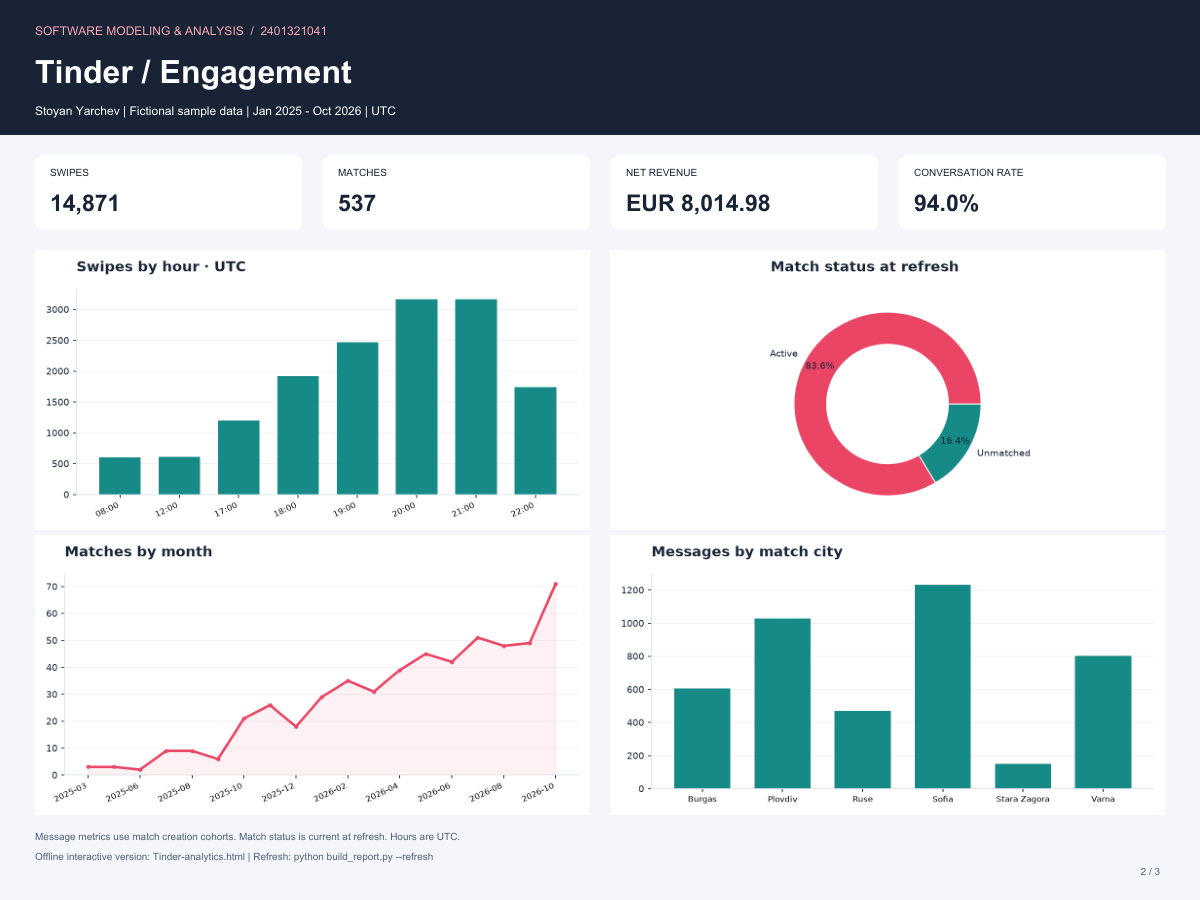

The page's visual inventory and layout, read from the dashboard file:
{"tool":"powerbi","page":{"name":"02 | Engagement","canvas":[1280,800],"ordinal":1},"visuals":[{"type":"slicer","title":"Year","fields":{"Values":["DimDate.Year"]},"box":[20,15,300,100],"z":0},{"type":"slicer","title":"City","fields":{"Values":["DimCity.CityName"]},"box":[340,15,300,100],"z":1},{"type":"clusteredColumnChart","title":"Swipes by hour (UTC)","fields":{"Category":["DimTime.HourLabel"],"Y":["FactSwipes.Total Swipes"]},"box":[20,140,610,290],"z":2},{"type":"clusteredBarChart","title":"Match status at refresh","fields":{"Category":["DimMatchStatus.StatusName"],"Y":["FactMatches.Total Matches"]},"box":[650,140,610,290],"z":3},{"type":"lineChart","title":"Matches by month","fields":{"Category":["DimDate.YearMonth"],"Y":["FactMatches.Total Matches"]},"box":[20,460,610,310],"z":4},{"type":"clusteredBarChart","title":"Messages by match city","fields":{"Category":["DimCity.CityName"],"Y":["FactMatches.Messages Sent"]},"box":[650,460,610,310],"z":5}]}

Visuals, with their boxes on the page's 1280x800 design canvas (x1, y1, x2, y2). These are canvas units, not pixel positions in the 1200x900 screenshot, which may show the page scaled, cropped or inside an application window:
"Year" slicer: locate(20, 15, 320, 115)
"City" slicer: locate(340, 15, 640, 115)
"Swipes by hour (UTC)" clusteredColumnChart: locate(20, 140, 630, 430)
"Match status at refresh" clusteredBarChart: locate(650, 140, 1260, 430)
"Matches by month" lineChart: locate(20, 460, 630, 770)
"Messages by match city" clusteredBarChart: locate(650, 460, 1260, 770)
